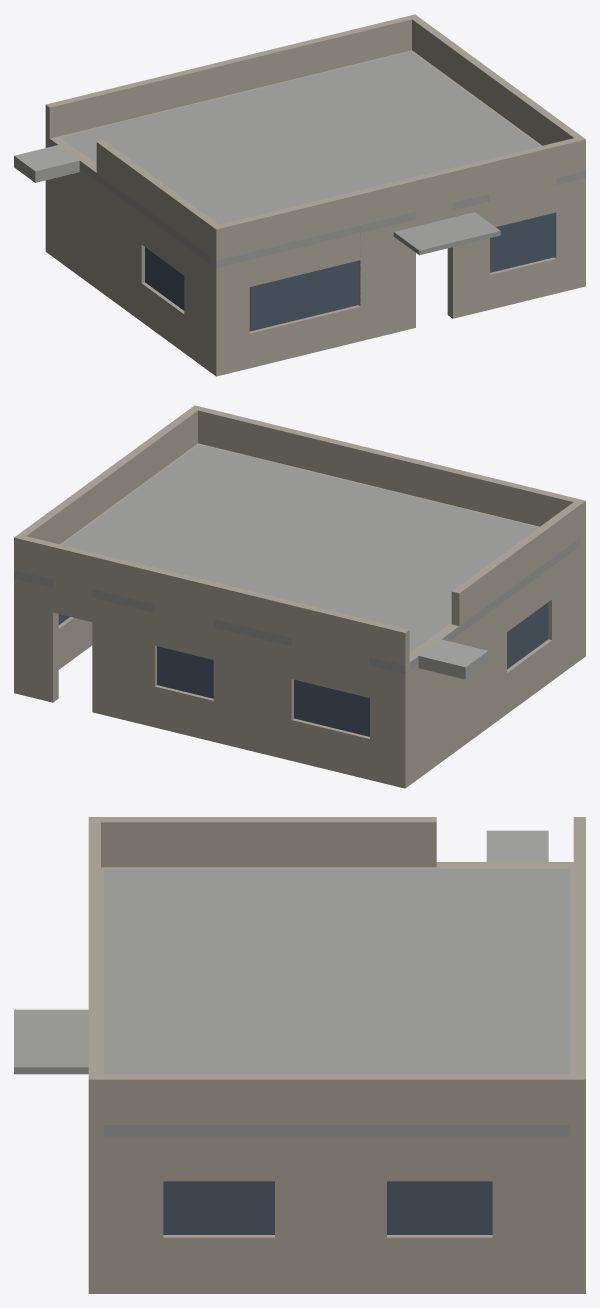
The model's file is bungalow.walls-v1.lod1.glb.
3 renders of one model, top to bottom at view 1: azimuth 30°, elevation 25°; view 2: azimuth 150°, elevation 25°; view 3: azimuth 270°, elevation 25°, orthographic. The views are drawn at different scales.
Visible parts, largest first — view 1: bungalow; view 2: bungalow; view 3: bungalow.
Part boxes in pixels (<box>): bungalow: <box>14,14,585,376</box>; bungalow: <box>14,405,585,788</box>; bungalow: <box>14,817,585,1293</box>.
Size of the model in its own units: 11.2 by 3.8 by 9.2.
